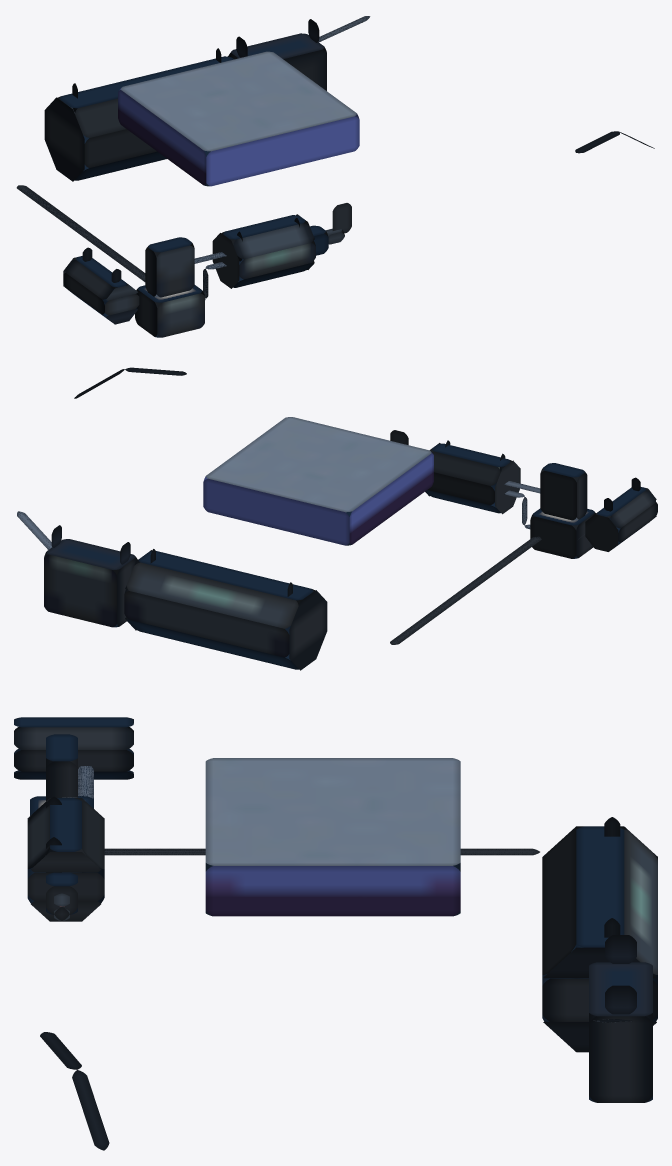
The model's file is m1_underbody_equipment_2.obj.
3 views of the same model, one above another, from view 1: azimuth 30°, elevation 25°; view 2: azimuth 150°, elevation 25°; view 3: azimuth 270°, elevation 25° (orthographic). The views are drawn at different scales.
Parts seen in each view (by area): view 1: cube; view 2: cube; view 3: cube.
Boxes of the visible parts, x1,y1,x2,y2 form: cube: (16, 16, 654, 337); cube: (17, 367, 657, 670); cube: (14, 717, 657, 1150).
Size of the model in its own units: 3.8 by 0.7629 by 2.52.
